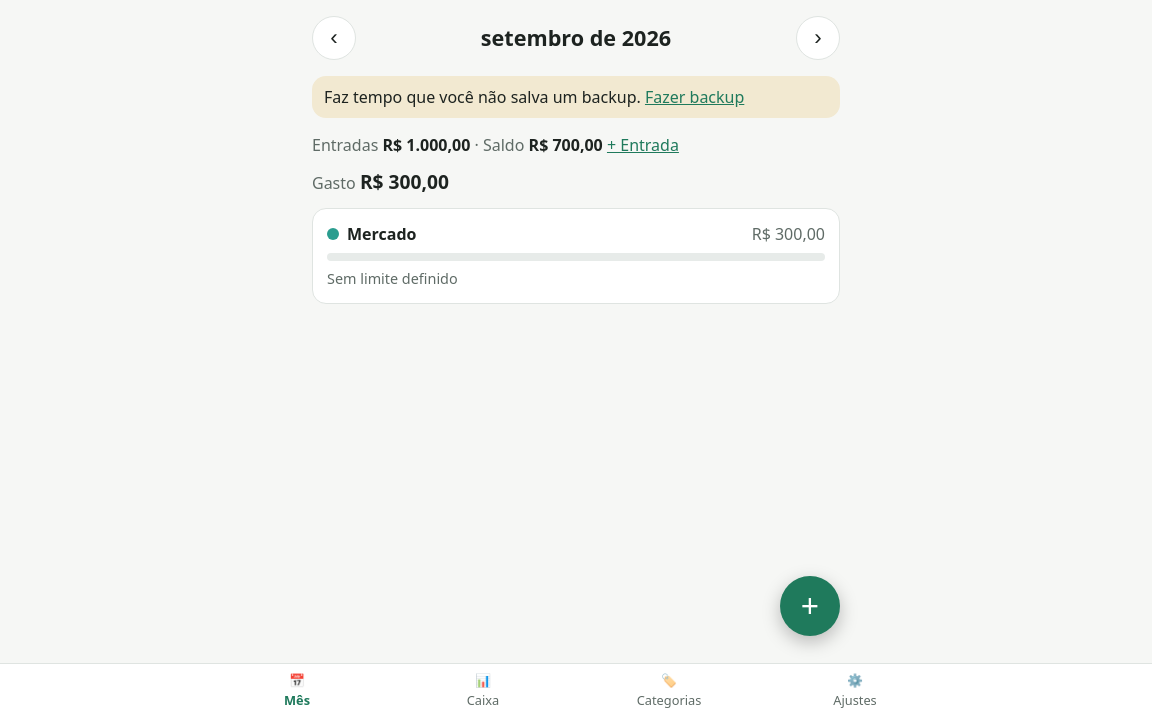
Scenario: caixa › por mês: últimos 6 meses com saldo acumulado e total
What coordinates should you click on to do the following:
click the link "📊 Caixa"
I would click on:
 (483, 690)
Its box is [467, 671, 499, 709].
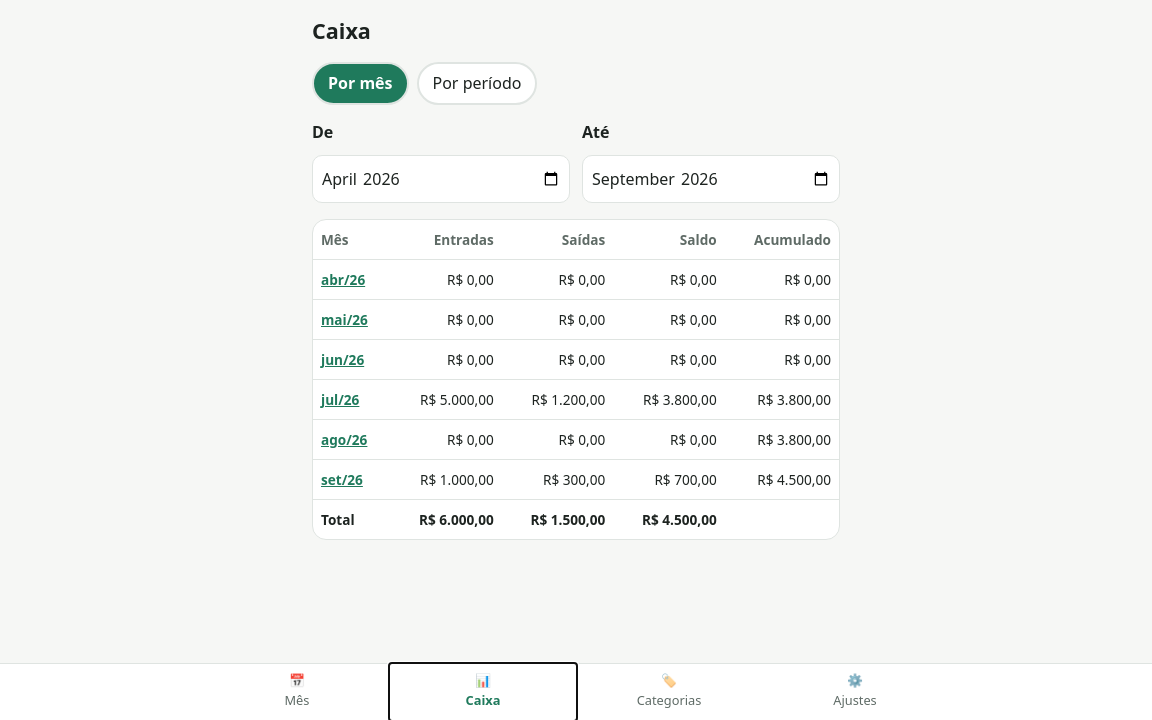
Expected: the number of rows is 8
Expected: the row "jul/26 R$ 5.000,00 R$ 1.200,00 R$ 3.800,00 R$ 3.800,00" is shown, [313, 380, 839, 420]
Expected: the row "set/26 R$ 1.000,00 R$ 300,00 R$ 700,00 R$ 4.500,00" is shown, [313, 460, 839, 500]
